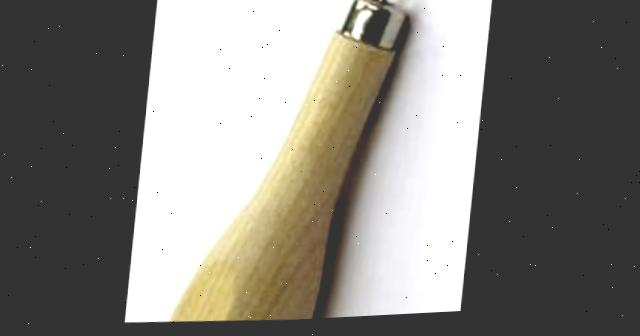ice pick: (145, 0, 453, 329)
